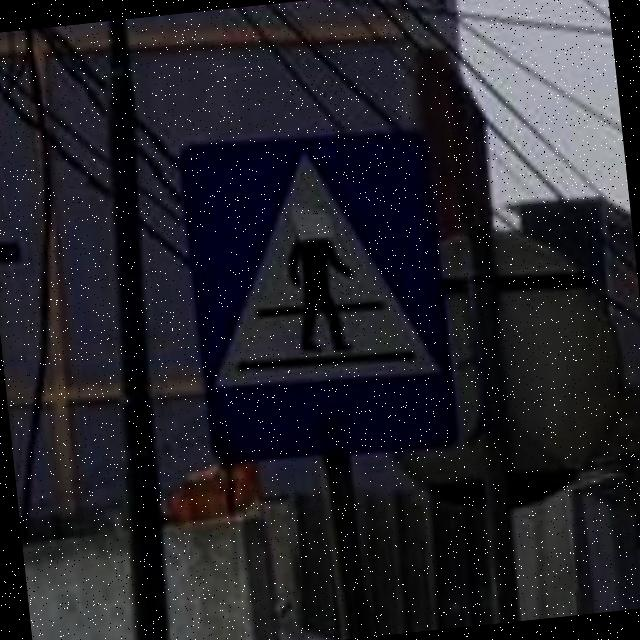Przejscie dla pieszych: (179, 118, 460, 474)
